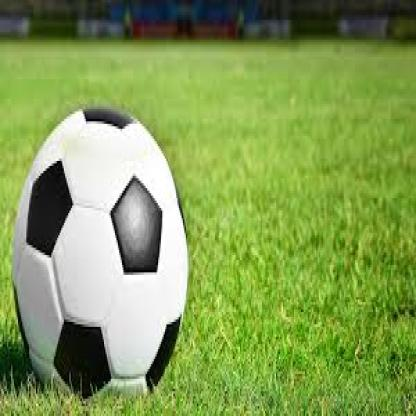ball: (10, 106, 188, 400)
